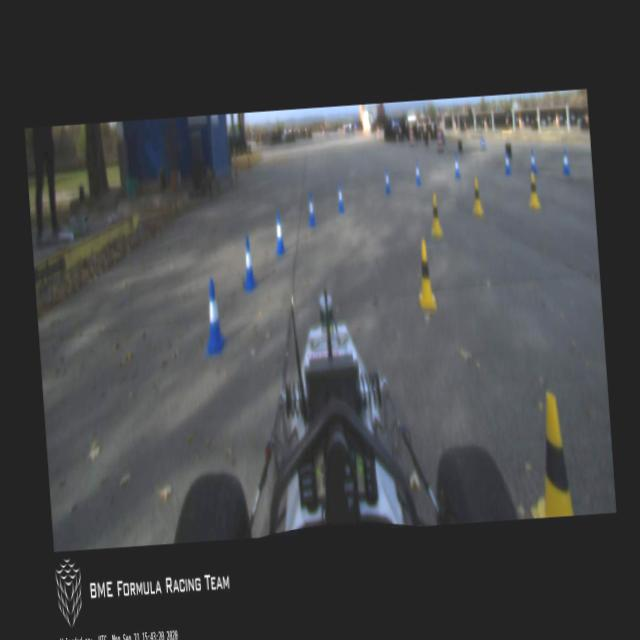blue_cone: (198, 274, 227, 358), (240, 236, 257, 288), (272, 210, 286, 255), (304, 192, 316, 224), (334, 182, 344, 212), (560, 147, 570, 175), (502, 149, 511, 175), (382, 167, 391, 192), (452, 153, 461, 178), (529, 150, 537, 174), (413, 162, 421, 184)
yellow_cone: (522, 390, 573, 518), (414, 238, 436, 310), (428, 192, 442, 236), (527, 172, 541, 210), (470, 178, 484, 215)
